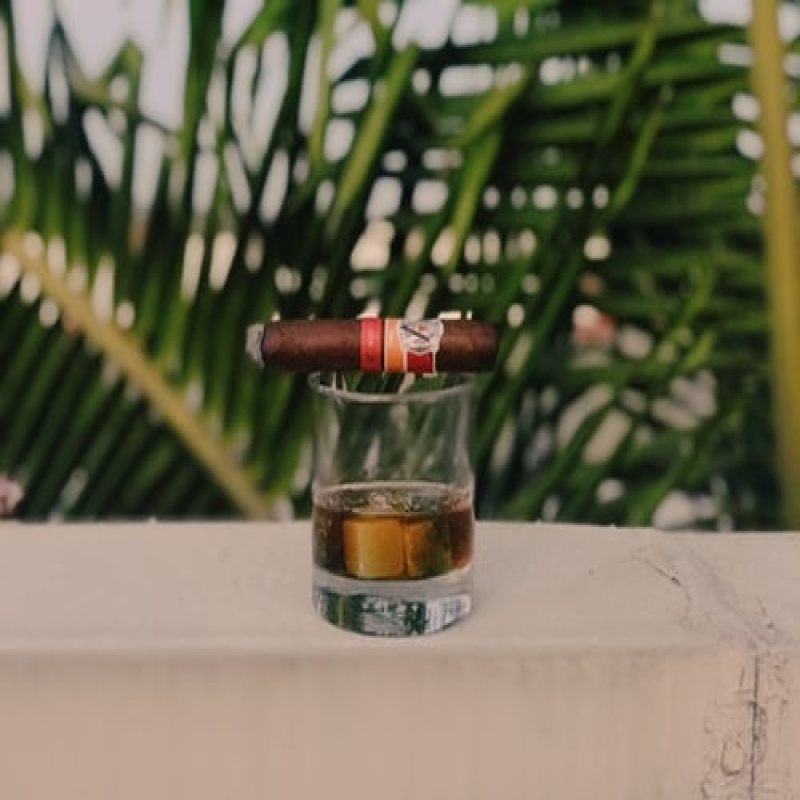whiskey: (303, 365, 482, 628)
